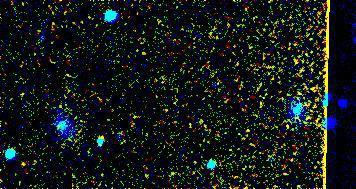star: (86, 124, 116, 154)
